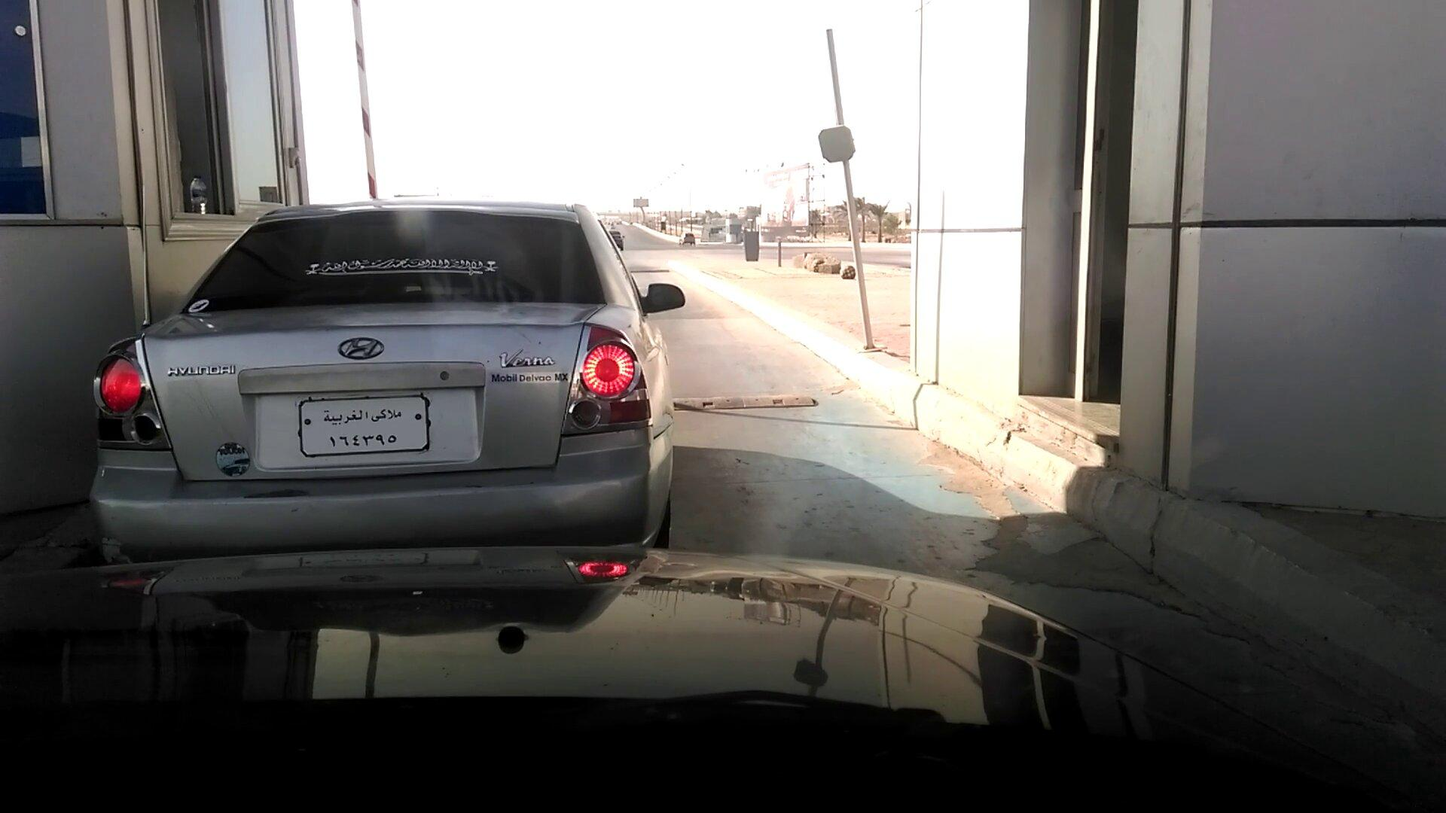Bump: (653, 386, 825, 420)
